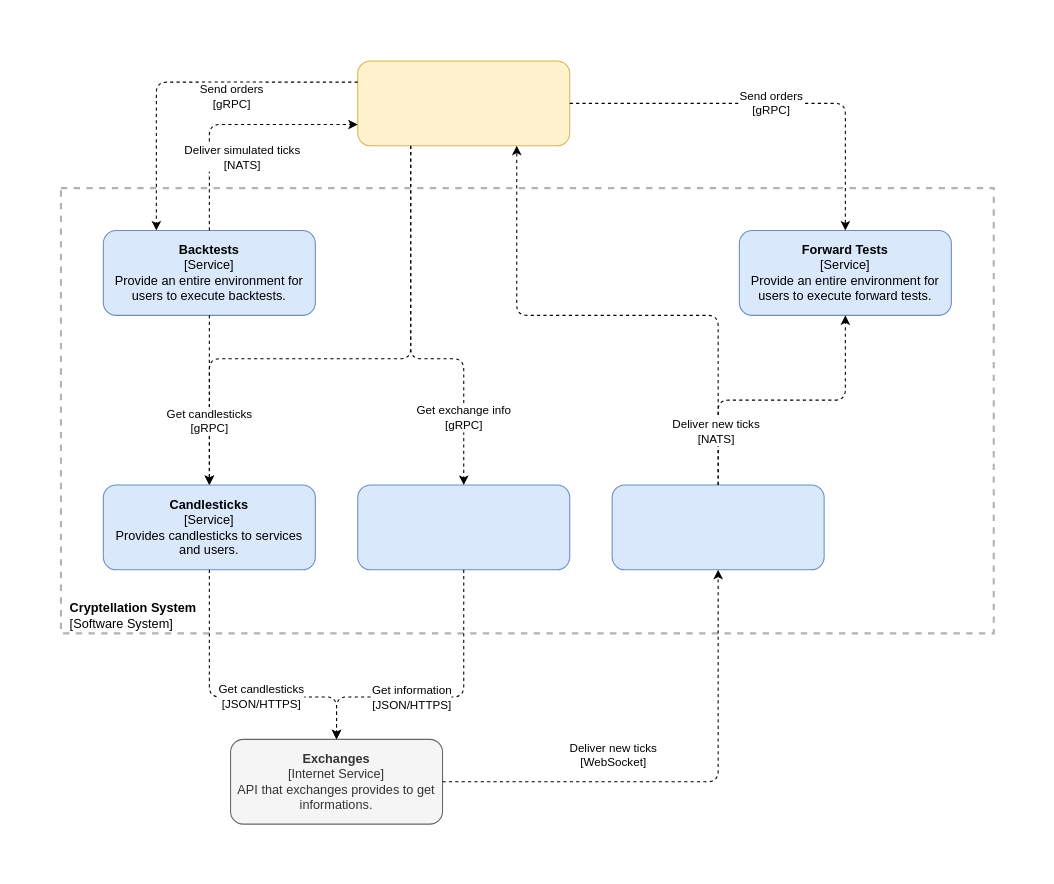
The diagram is 1054 pixels wide and 884 high, and some of its shapes have lost their labels. Here are the shapes that lost their labels. From the top down, the centre of each, then its label:
At pixel 463 103: "User [Application] Application that a user will run to execute its strategies.".
At pixel 463 527: "Exchanges [Service] Provides exchanges information to services and users.".
At pixel 717 527: "Ticks [Service] Provides ticks in real time to services and users.".
